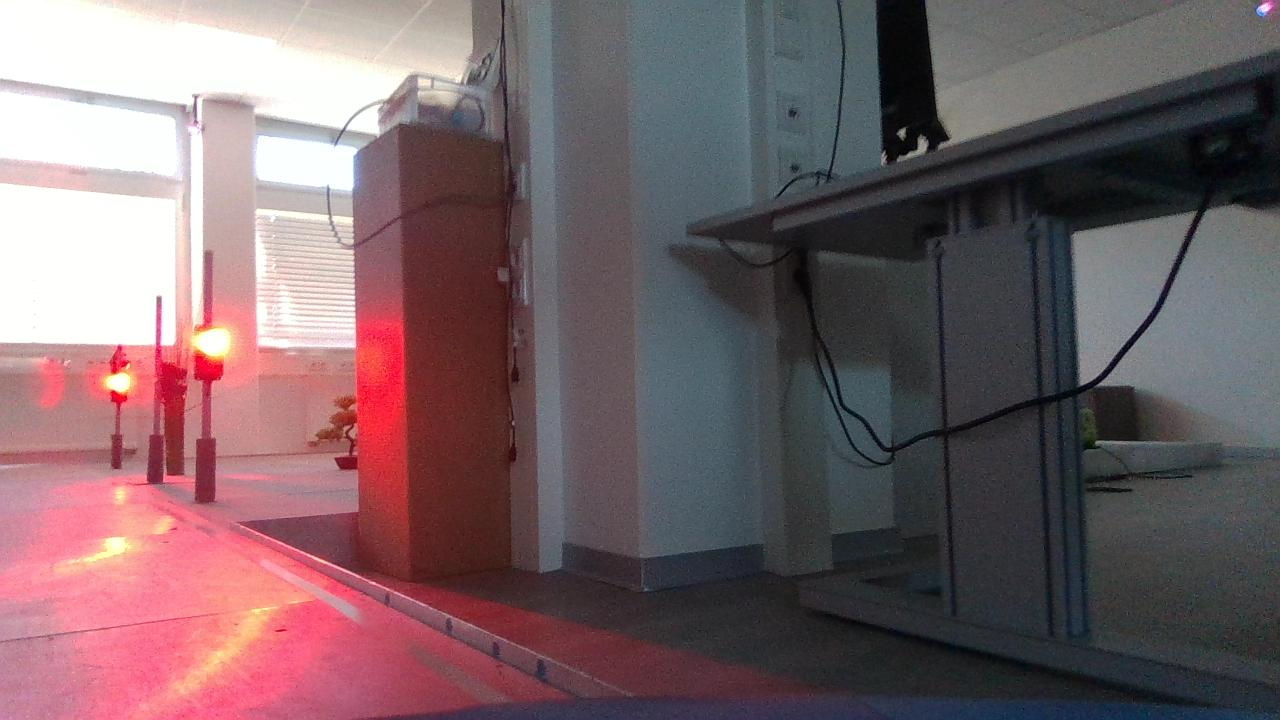traffic_light_red: (172, 317, 242, 400)
